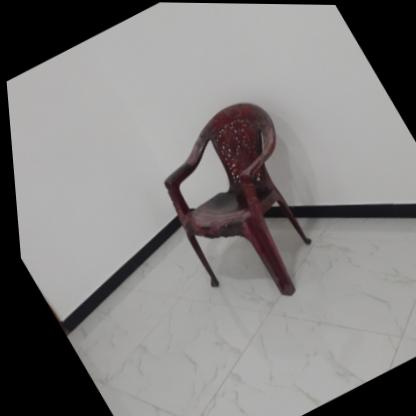Chair: (128, 88, 355, 325)
